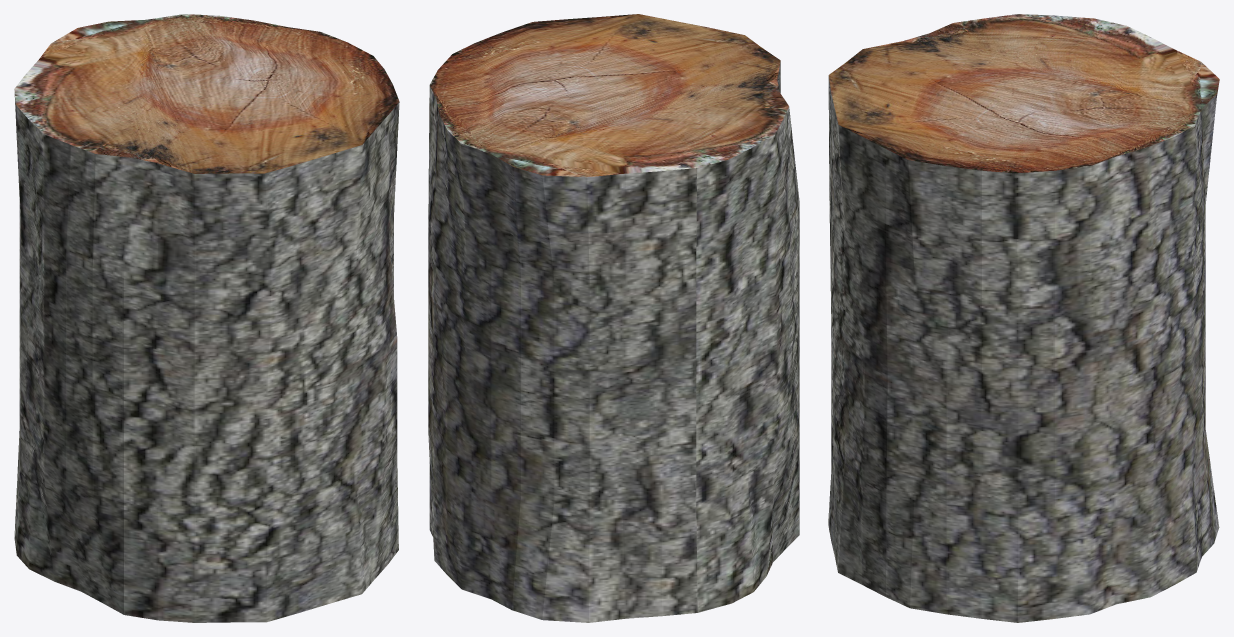
The model's file is Baumstamm.fbx.
3 views of the same model, side by side, from view 1: azimuth 30°, elevation 25°; view 2: azimuth 150°, elevation 25°; view 3: azimuth 270°, elevation 25° (orthographic).
Parts seen in each view (by area): view 1: Baumstamm; view 2: Baumstamm; view 3: Baumstamm.
Part boxes in pixels (x1=…): Baumstamm: x1=14, y1=14, x2=399, y2=622; Baumstamm: x1=428, y1=14, x2=799, y2=622; Baumstamm: x1=828, y1=14, x2=1219, y2=622.
Bounding box in the file's own units: 2.04 × 2.64 × 2.09.
